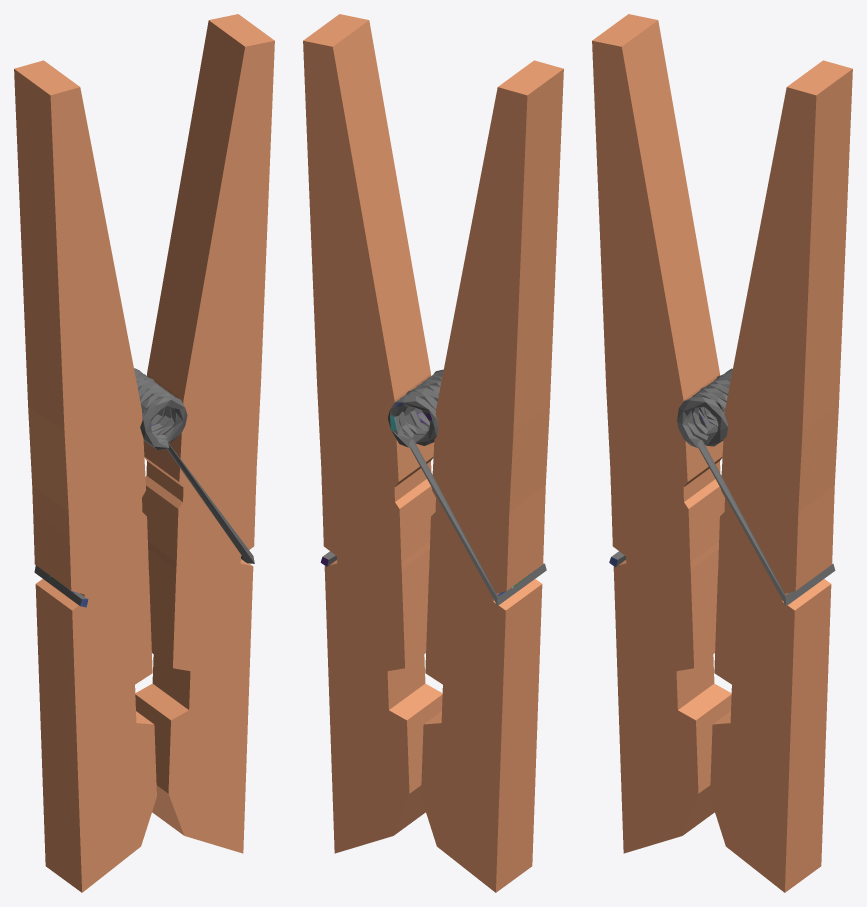
File: Pregador.fbx
3 renders of one model, left to right at view 1: azimuth 30°, elevation 25°; view 2: azimuth 150°, elevation 25°; view 3: azimuth 330°, elevation 25°, orthographic.
Parts seen in each view (by area): view 1: Pregador; view 2: Pregador; view 3: Pregador.
Part boxes in pixels (x1=…): Pregador: x1=14, y1=14, x2=274, y2=892; Pregador: x1=303, y1=14, x2=563, y2=892; Pregador: x1=592, y1=14, x2=852, y2=892.
Size of the model in its own units: 52.07 by 179 by 19.89.
